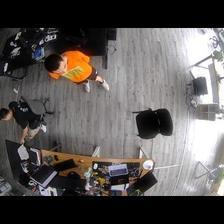normal: (43, 50, 111, 98), (1, 96, 49, 146)
